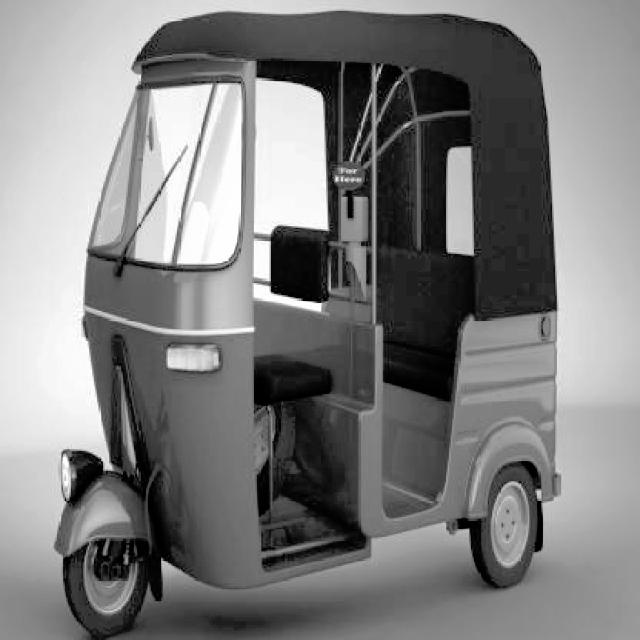Auto-Rickshaw: (48, 5, 564, 638)
